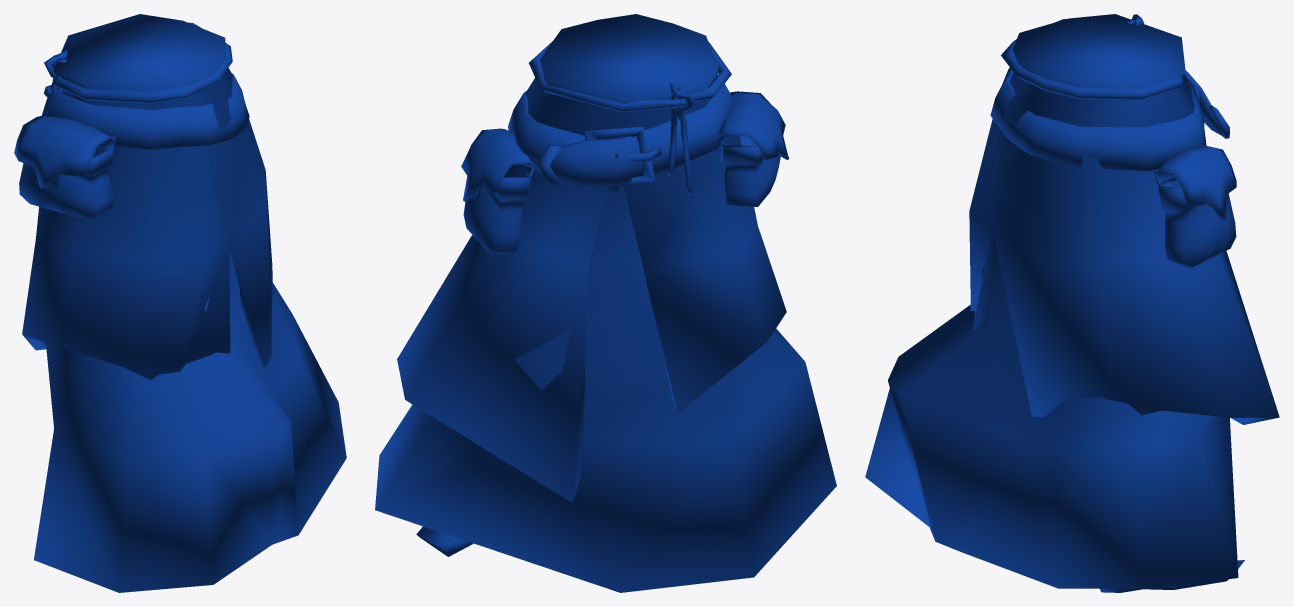
The model's file is bot_000032.obj.
3 views of the same model, side by side, from view 1: azimuth 30°, elevation 25°; view 2: azimuth 150°, elevation 25°; view 3: azimuth 270°, elevation 25° (orthographic). The views are drawn at different scales.
Visible parts, largest first — view 1: Wizard.001_Plane.001; view 2: Wizard.001_Plane.001; view 3: Wizard.001_Plane.001.
Boxes of the visible parts, x1,y1,x2,y2 form: Wizard.001_Plane.001: (14, 14, 346, 592); Wizard.001_Plane.001: (375, 14, 836, 592); Wizard.001_Plane.001: (865, 14, 1279, 592).
Bounding box in the file's own units: 0.8492 × 1.11 × 0.8473.
